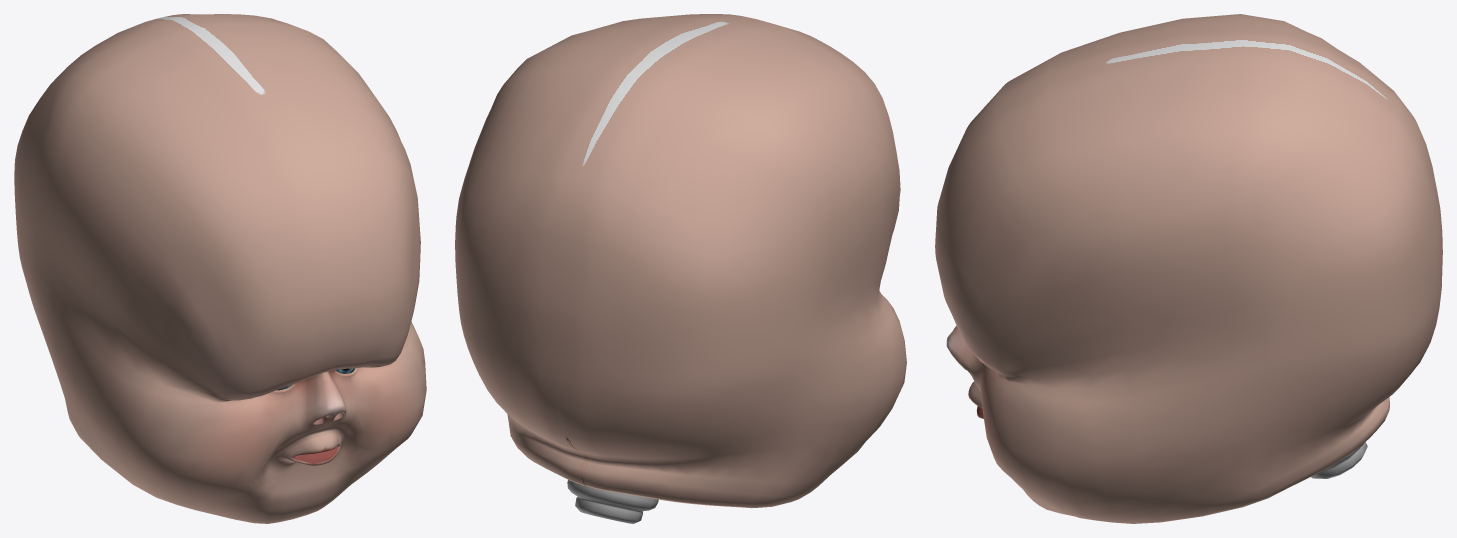
File: fatFace_v002.fbx
The picture shows the model from 3 angles, left to right: view 1: azimuth 30°, elevation 25°; view 2: azimuth 150°, elevation 25°; view 3: azimuth 270°, elevation 25°; orthographic projection. The views are drawn at different scales.
Visible parts, largest first — view 1: C_head_GEO; view 2: C_head_GEO, C_spine_02_geo_GEO; view 3: C_head_GEO, C_spine_02_geo_GEO.
Boxes of the visible parts, left/top/right/bottom form: C_head_GEO: left=14, top=14, right=426, bottom=523; C_head_GEO: left=455, top=14, right=906, bottom=508; C_spine_02_geo_GEO: left=567, top=480, right=658, bottom=523; C_head_GEO: left=935, top=14, right=1442, bottom=523; C_spine_02_geo_GEO: left=1311, top=442, right=1367, bottom=478.
Size of the model in its own units: 15.97 by 20.91 by 21.07.
